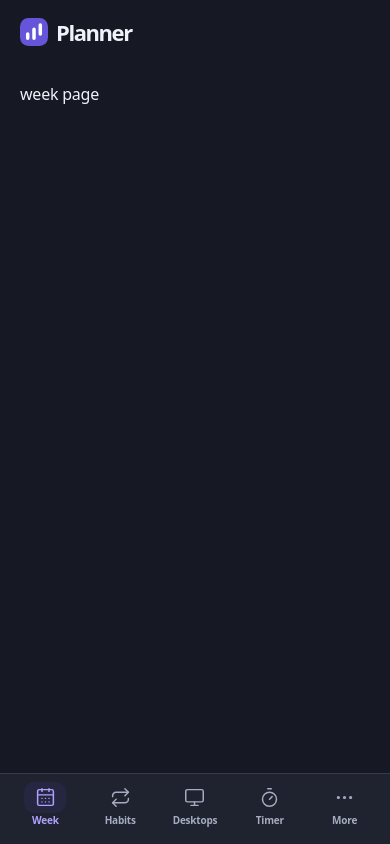
it: Grind Recall navigation › links to the separate app from sidebar and mobile More menu
Step 1. Click the button "More" → (345,808), box [307,779,382,836]
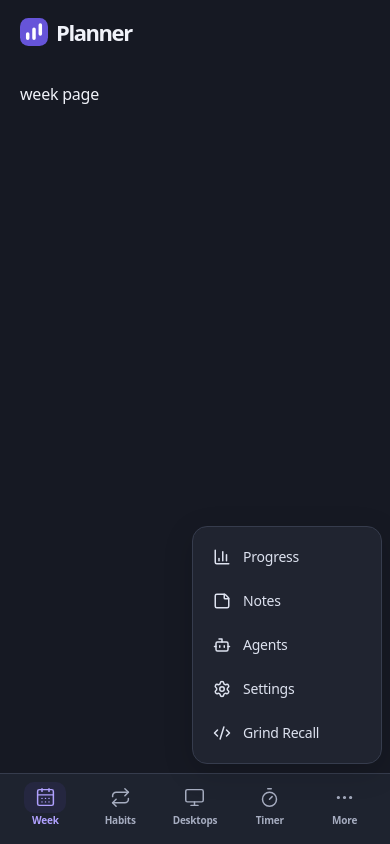
Check: the number of links "Grind Recall" is 2
